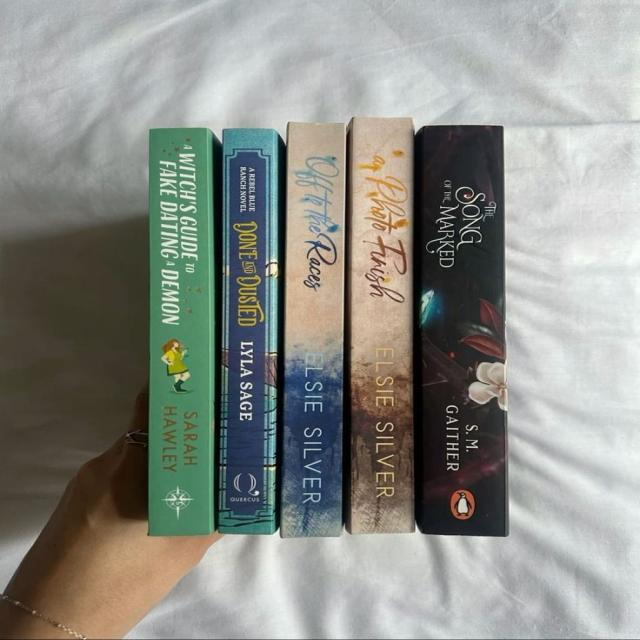book: (415, 126, 508, 536), (345, 118, 414, 534), (279, 122, 345, 538), (148, 128, 215, 536), (217, 129, 283, 534)
